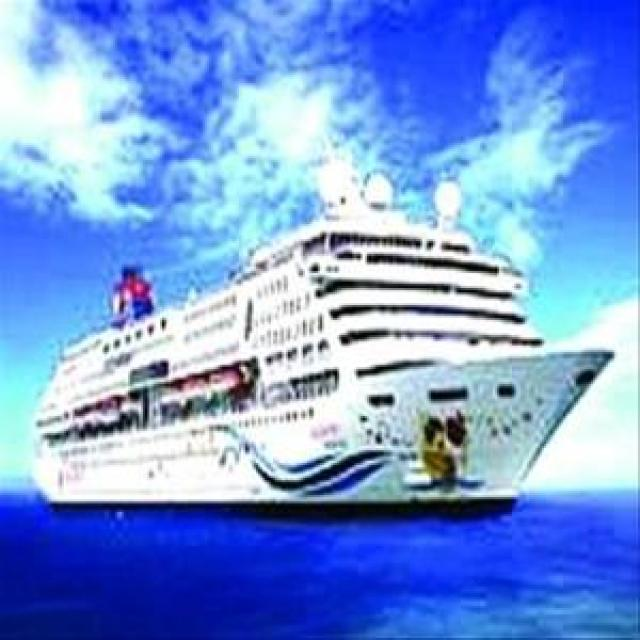passenger ship: (19, 173, 618, 517)
